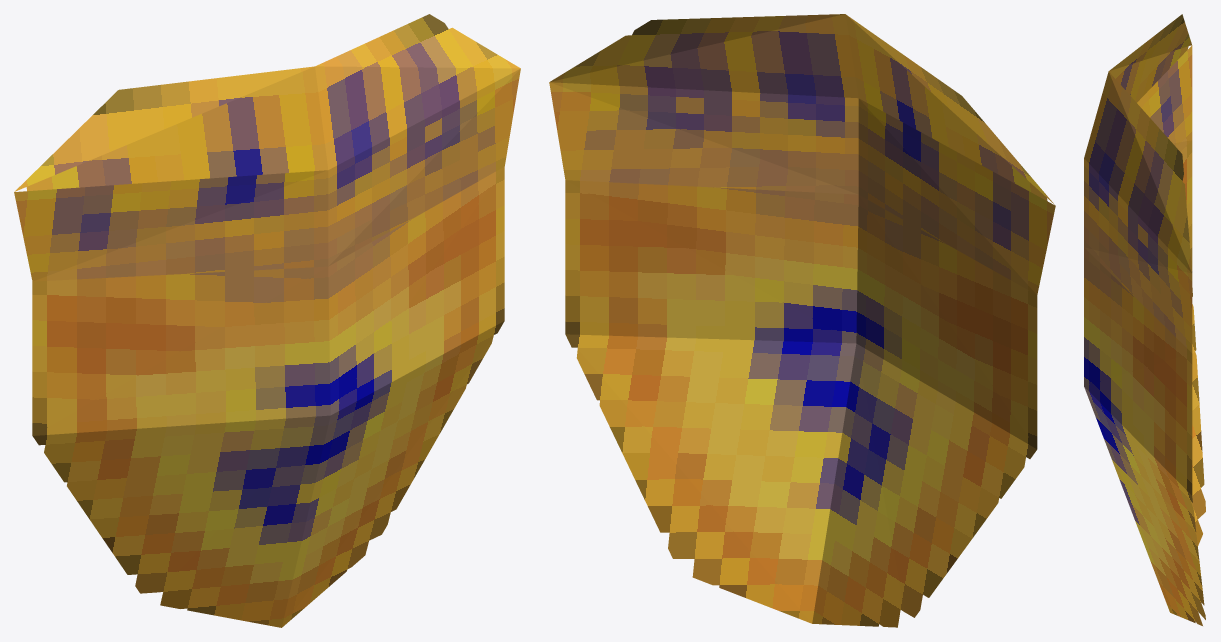
The picture shows the model from 3 angles, left to right: view 1: azimuth 30°, elevation 25°; view 2: azimuth 150°, elevation 25°; view 3: azimuth 270°, elevation 25°; orthographic projection. The views are drawn at different scales.
Parts seen in each view (by area): view 1: Ovmp_obj_026; view 2: Ovmp_obj_026; view 3: Ovmp_obj_026.
Part boxes in pixels (x1,y1,x2,y2): Ovmp_obj_026: (14, 14, 520, 627); Ovmp_obj_026: (549, 14, 1055, 627); Ovmp_obj_026: (1084, 14, 1205, 625).
Size of the model in its own units: 0.4297 by 0.4746 by 0.0977.
Materials: 1 (1 with a texture image).
